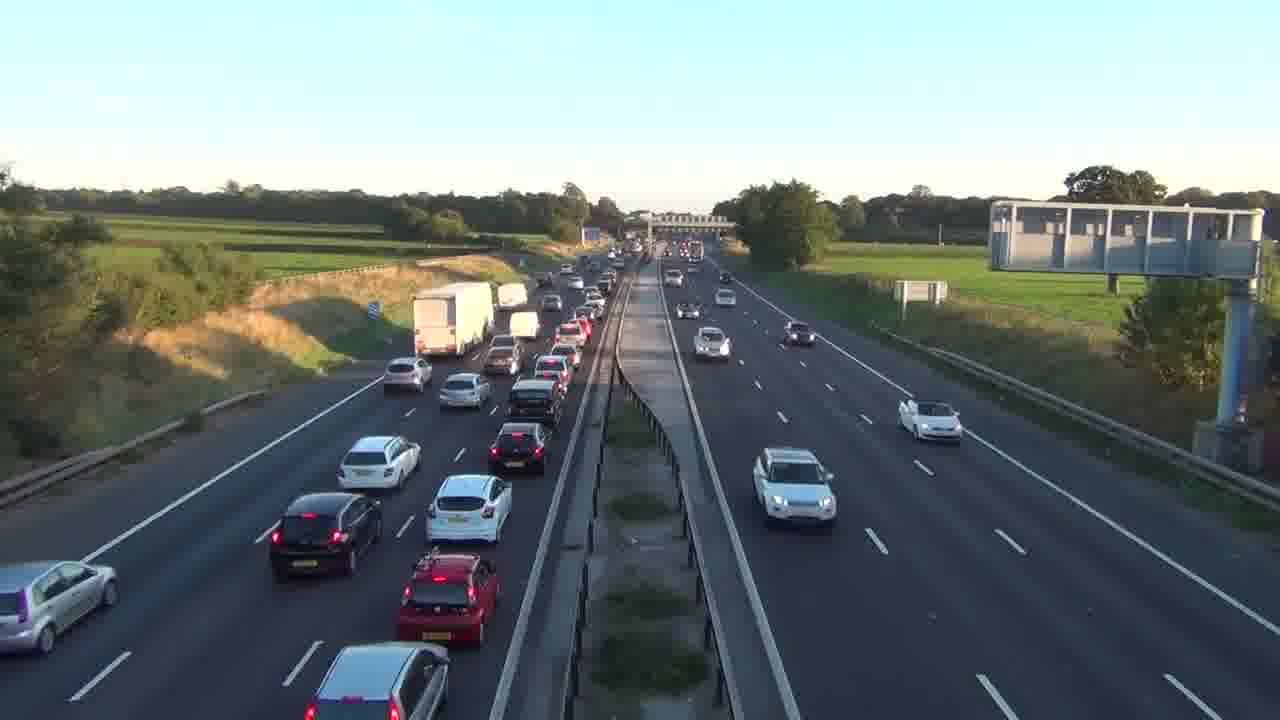car: (0, 558, 120, 657), (302, 641, 451, 719), (257, 491, 383, 581), (393, 552, 500, 647), (751, 446, 838, 528), (424, 472, 514, 545), (336, 434, 422, 491), (488, 421, 547, 475), (897, 400, 962, 445), (438, 371, 491, 411), (383, 355, 433, 394), (692, 325, 732, 360)
truck: (412, 281, 497, 359)
